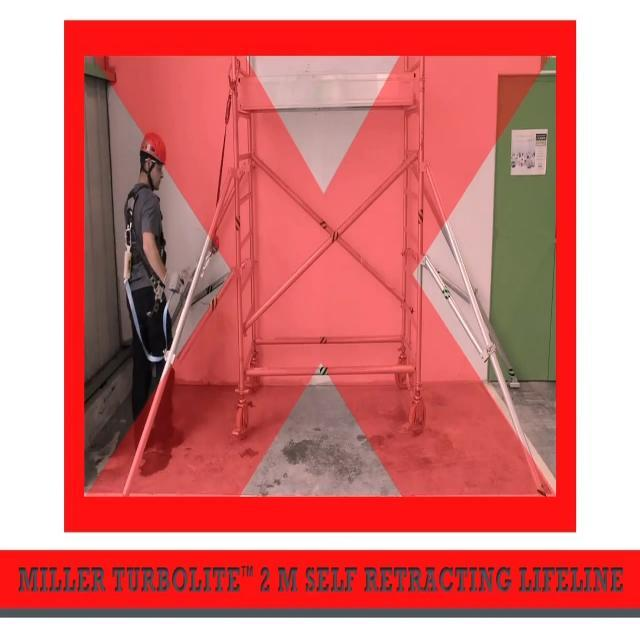belt: (118, 173, 172, 338)
